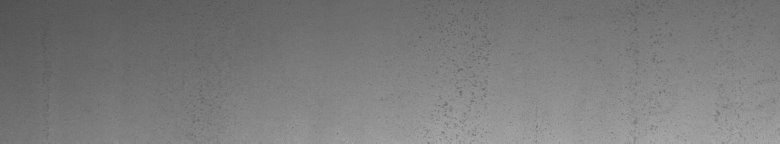ib: (438, 52, 488, 128)
